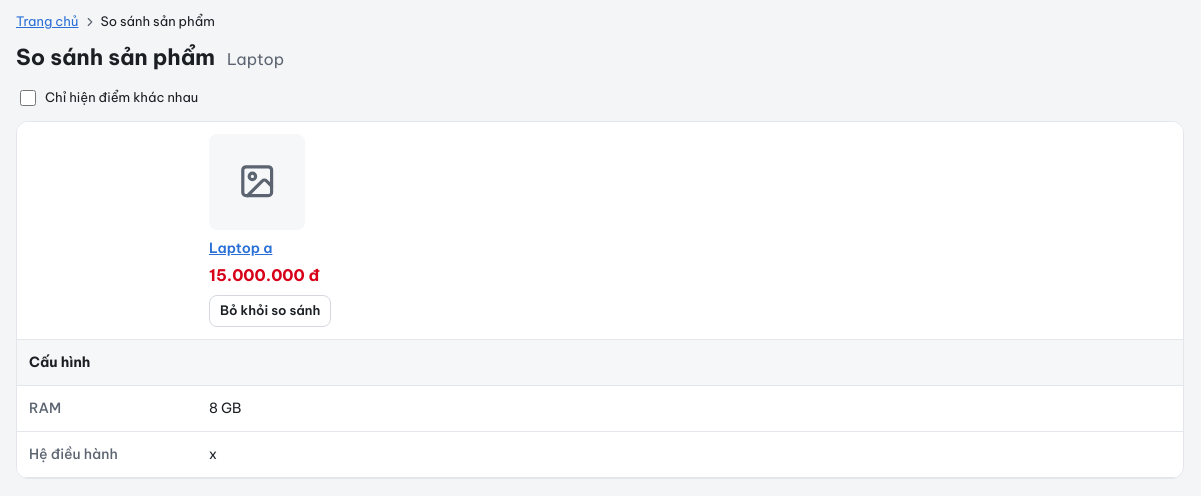
ComparePage: bảng so sánh › báo không có điểm khác nhau khi bật công tắc mà mọi dòng giống nhau
The image size is (1201, 496).
Click the checkbox labelled "Chỉ hiện điểm khác nhau": (28, 98) [20,90,36,106]
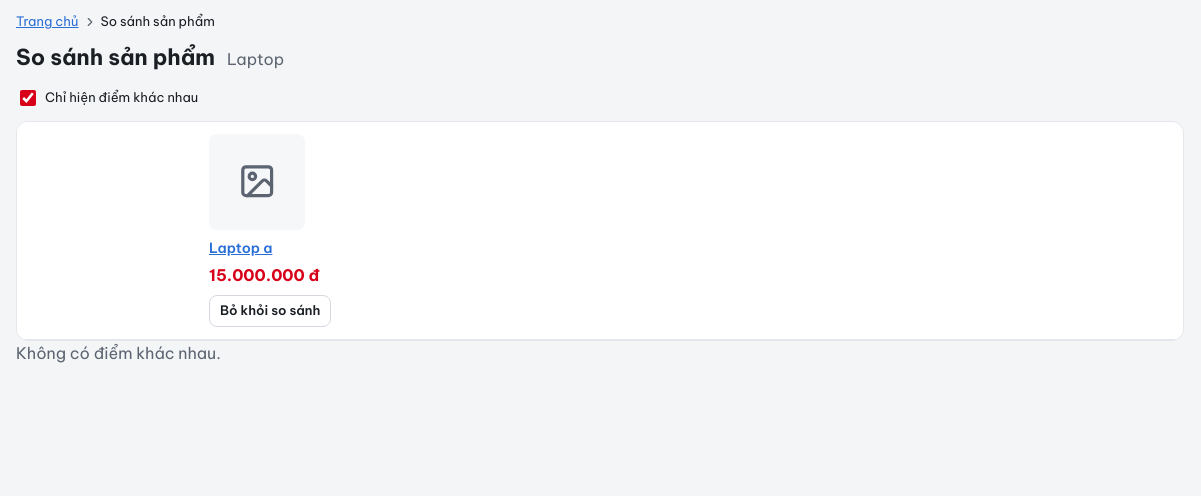
Result: the text "Không có điểm khác nhau" is shown at [16,342,221,362]
